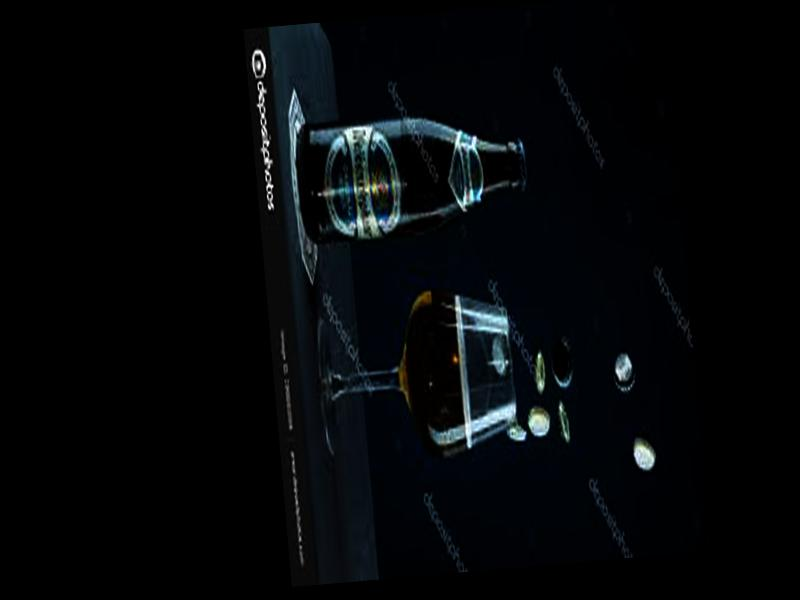Beer: (296, 109, 528, 241)
